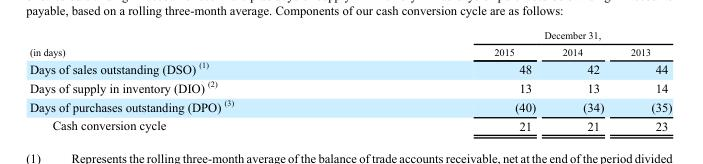table: (28, 29, 671, 132)
table column: (28, 29, 363, 132), (363, 29, 548, 132), (548, 29, 616, 132), (616, 29, 671, 132)
table column header: (28, 29, 671, 58)
table row: (28, 58, 671, 77), (28, 77, 671, 96), (28, 96, 671, 115), (28, 115, 671, 132), (28, 42, 671, 58), (28, 29, 671, 42)
table spanning cell: (28, 29, 363, 58), (363, 29, 671, 42)
